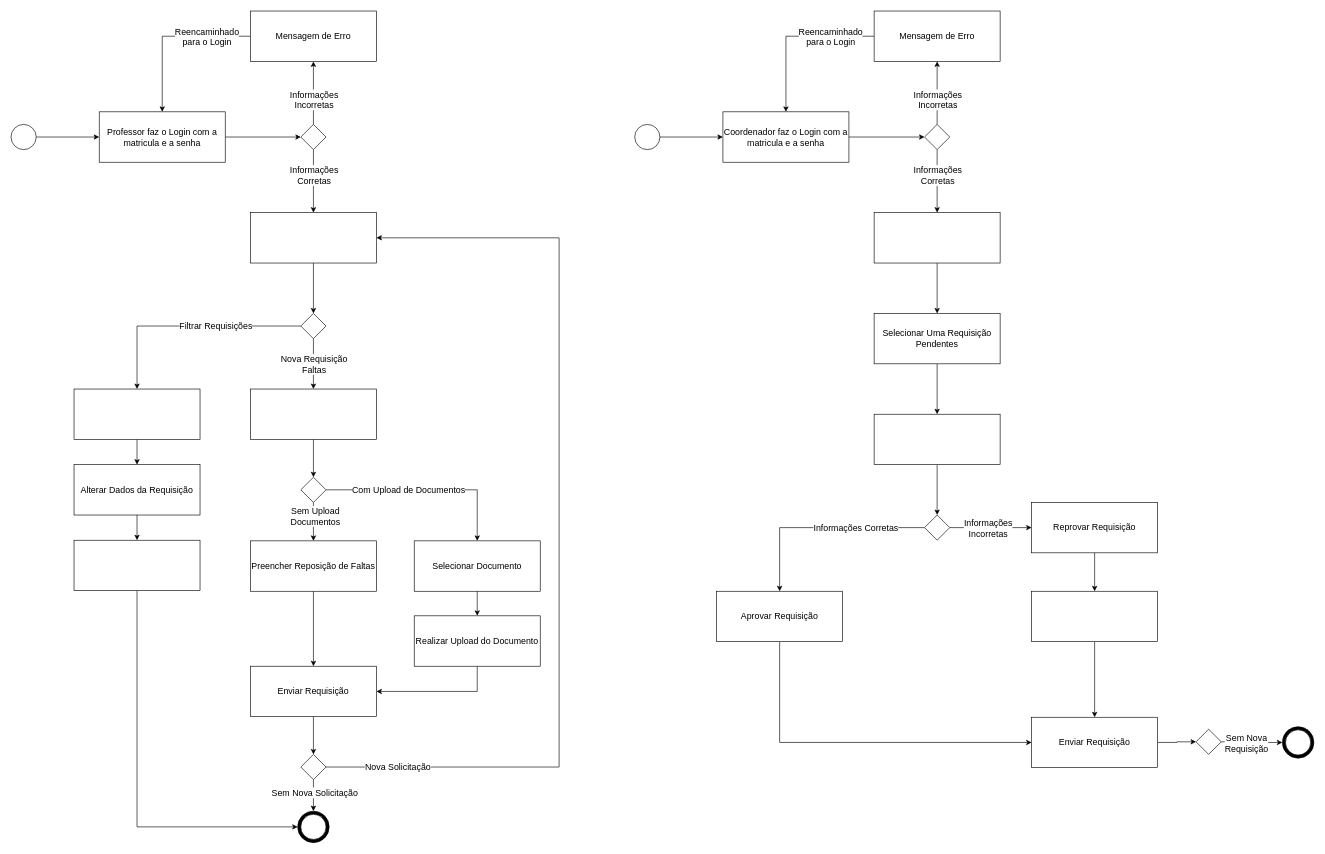
This 1325x854 diagram has some shape labels left out. The centre of each missing label's shape, as x and y in pixels:
"Comentar o Motivo da Requisição" goes at pixel 1094 616.
"Homepage Coordenador" goes at pixel 936 237.
"Homepage Professor" goes at pixel 313 237.
"Preencher Justificativa de Faltas" goes at pixel 313 413.
"Reenviar Requisição Corrigida" goes at pixel 136 565.
"Revisar Dados Requisição" goes at pixel 936 439.
"Selecionar Requisição Desejada" goes at pixel 136 413.
